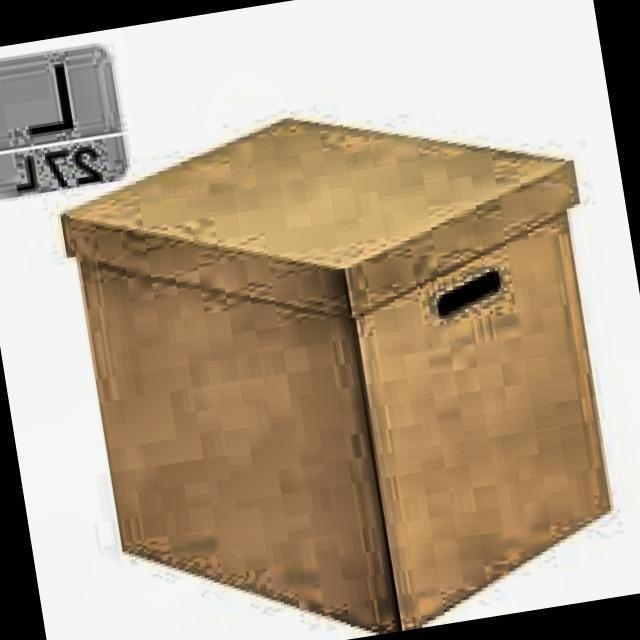cardboard: (51, 68, 640, 640)
